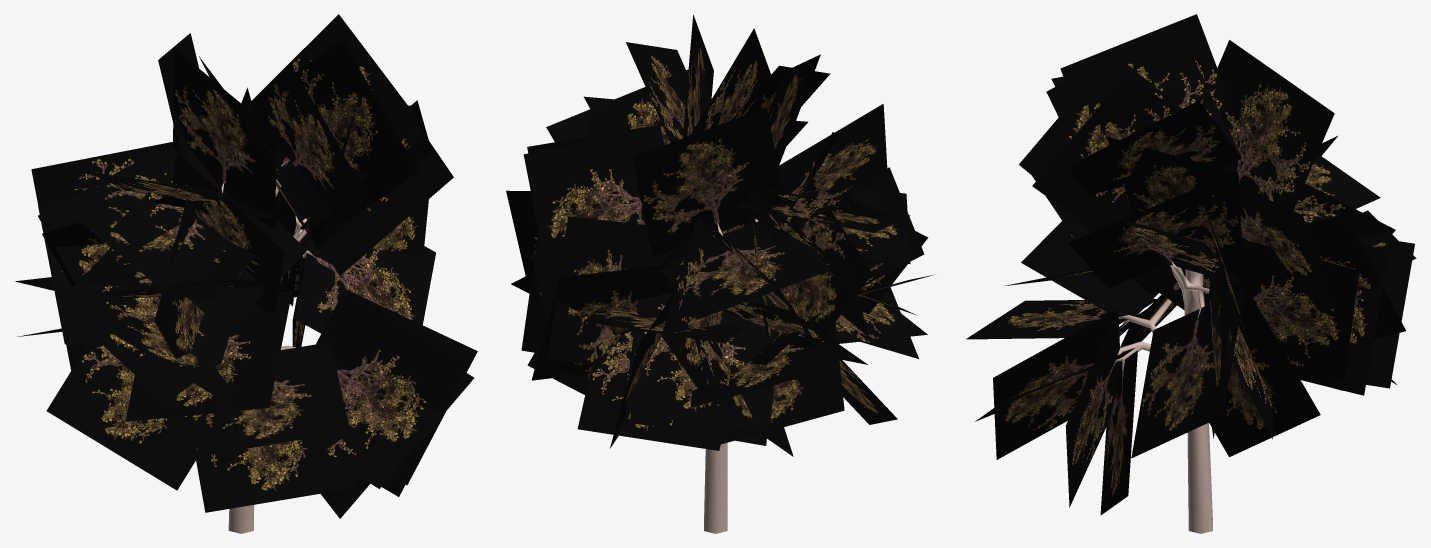
Rendered from tree35.glb.
3 renders of one model, left to right at view 1: azimuth 30°, elevation 25°; view 2: azimuth 150°, elevation 25°; view 3: azimuth 270°, elevation 25°, orthographic. The views are drawn at different scales.
Bounding box in the file's own units: 6.05 × 7.22 × 6.11.
2 materials, 1 textured.
